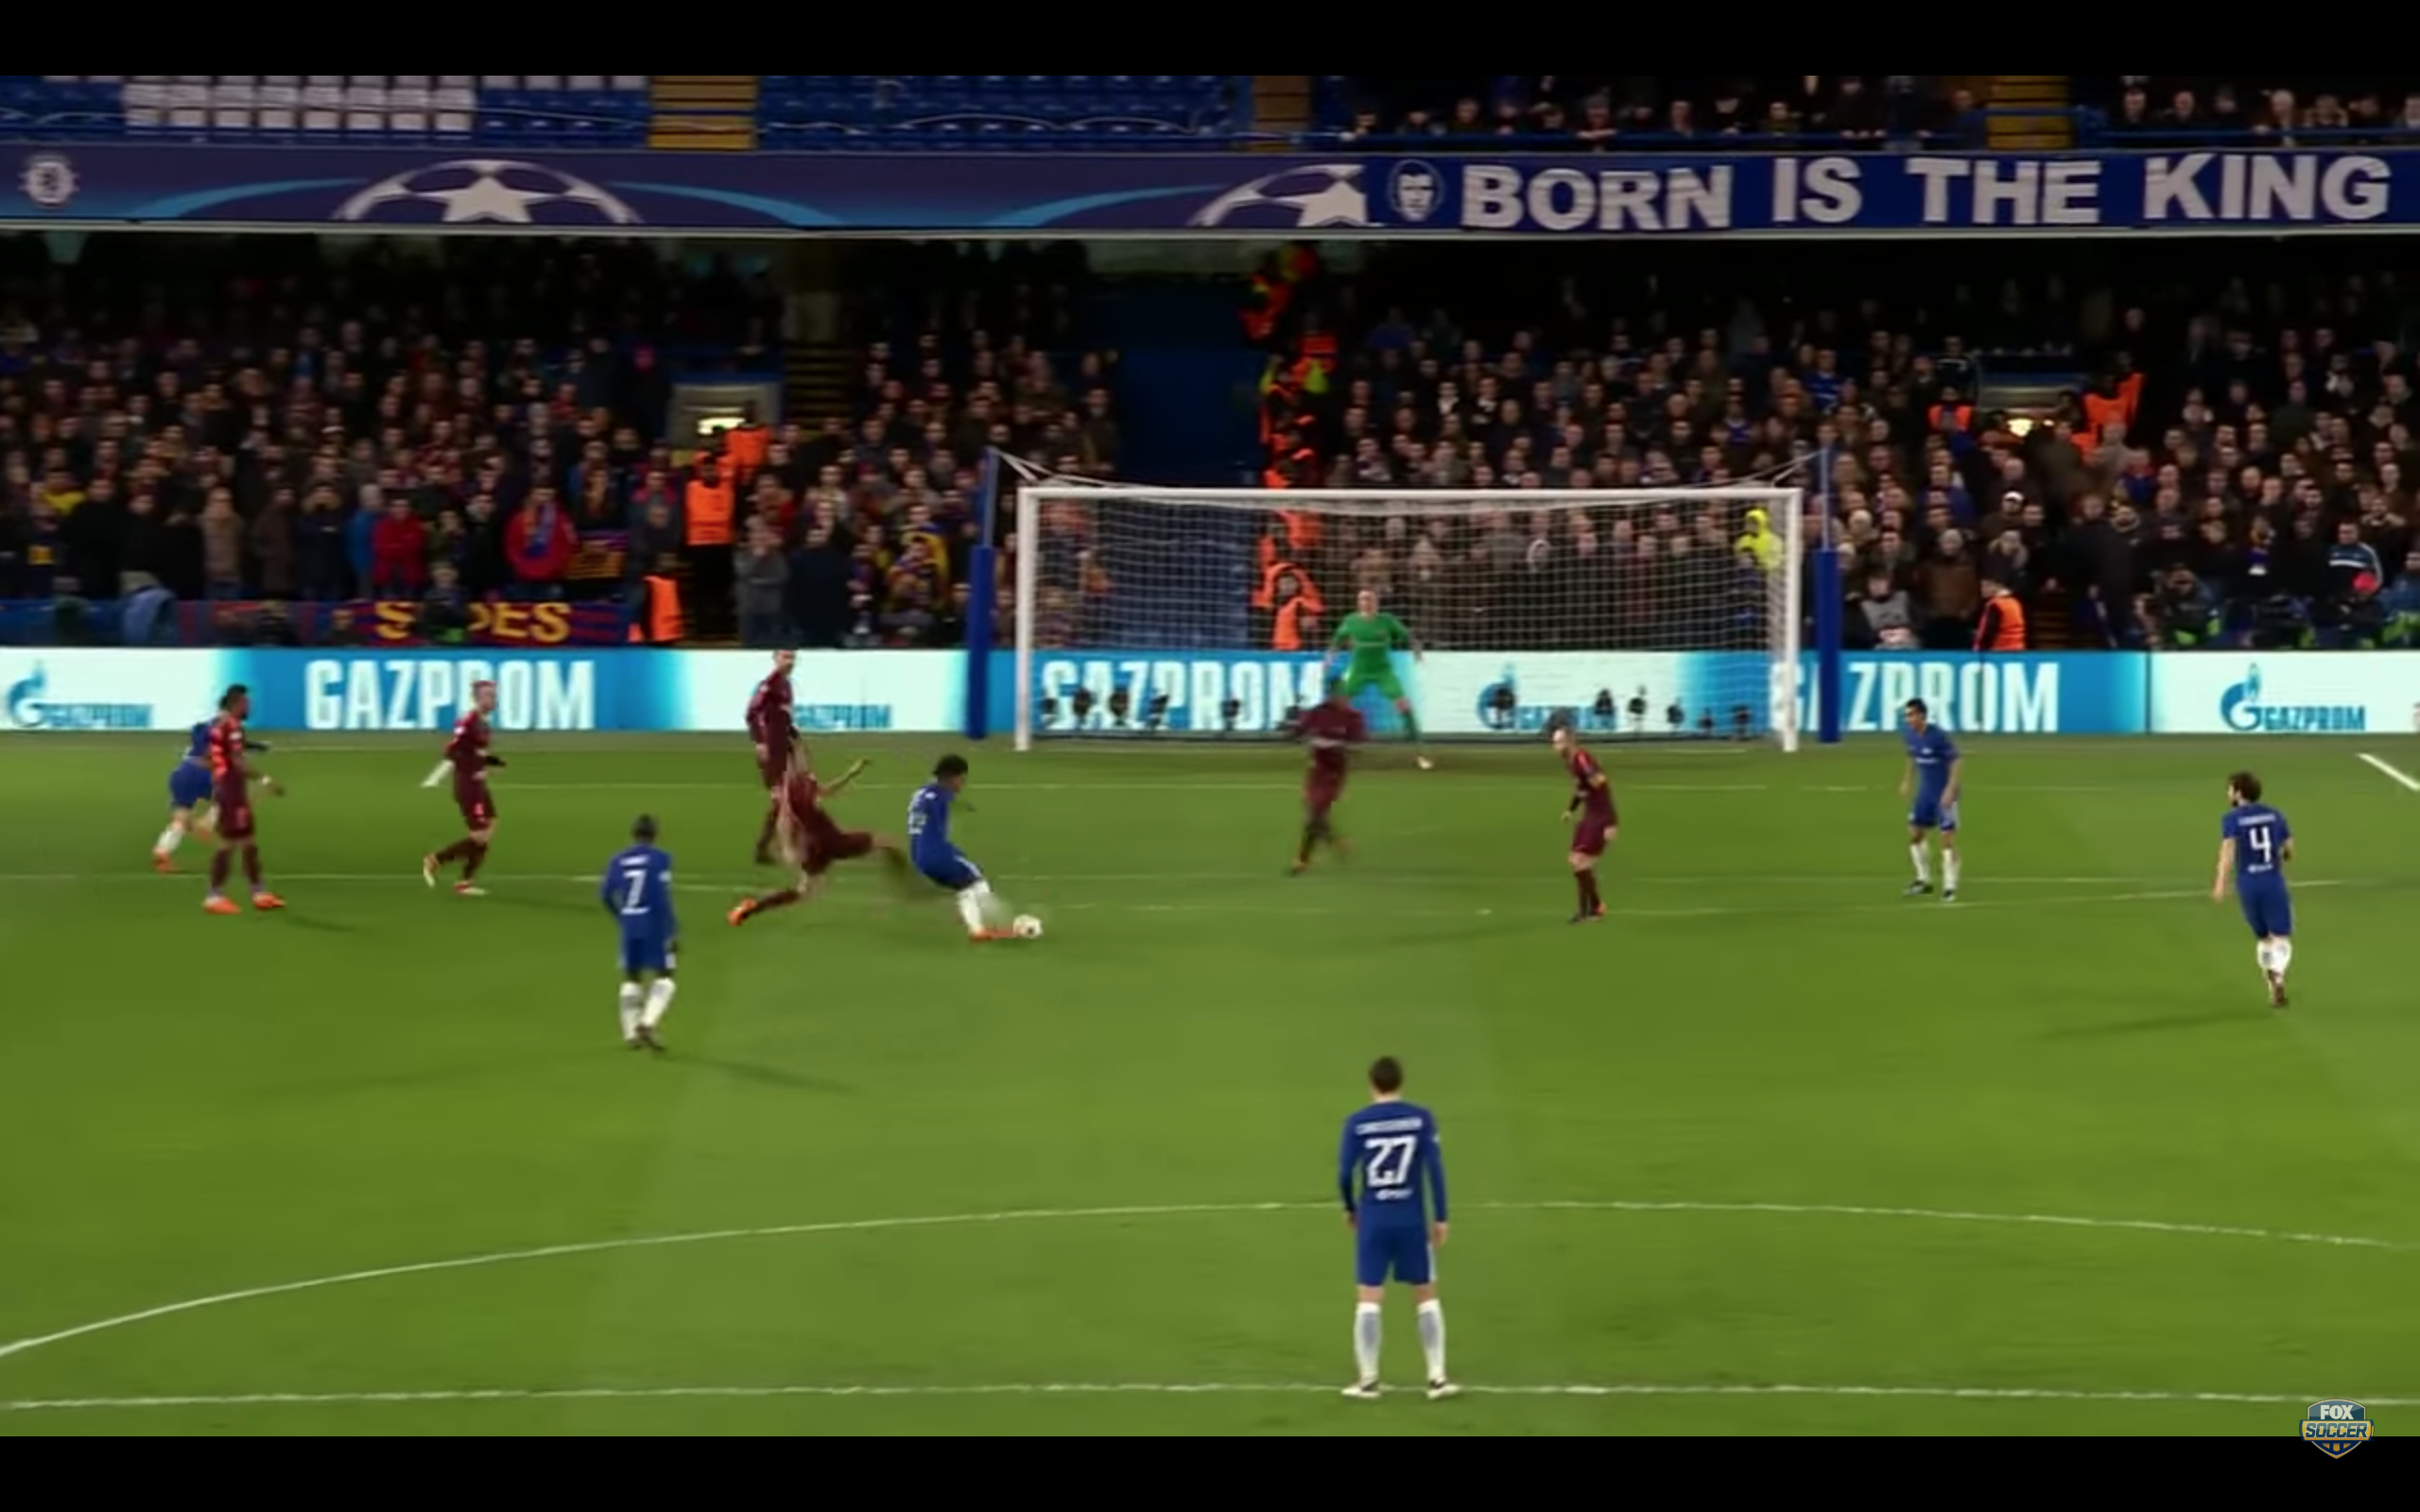soccer ball: (1010, 905, 1054, 945)
soccer player: (1331, 1055, 1458, 1407), (713, 761, 920, 931), (2196, 763, 2309, 1012), (593, 816, 690, 1059), (417, 673, 515, 908), (1313, 589, 1435, 773), (896, 750, 1010, 949), (1880, 694, 1974, 912), (202, 693, 289, 919), (1533, 718, 1623, 928), (1277, 674, 1368, 880), (735, 638, 811, 868), (150, 709, 211, 885)
